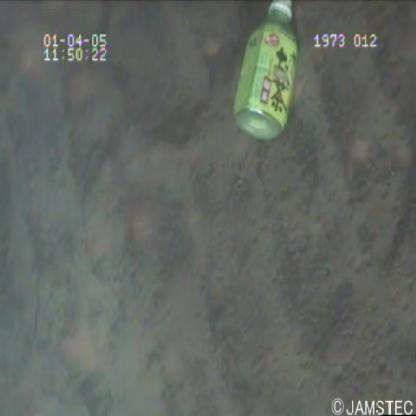Rác: (232, 1, 316, 158)
